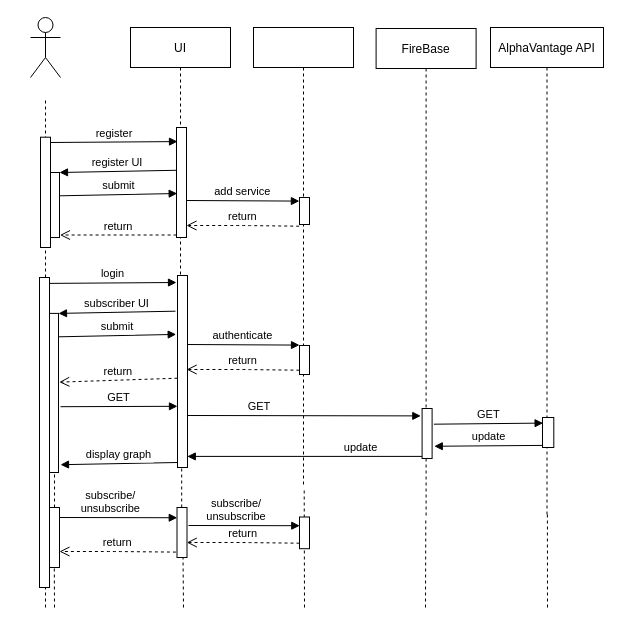
Some shapes in this 621 by 626 pixel diagram are drawn without their labels. The shapes that lost their labels are listed below. From the top down, each one's centre as x and y in pixels, then its label:
At (45,47): "Subscriber".
At (303,257): "Service Registry".
